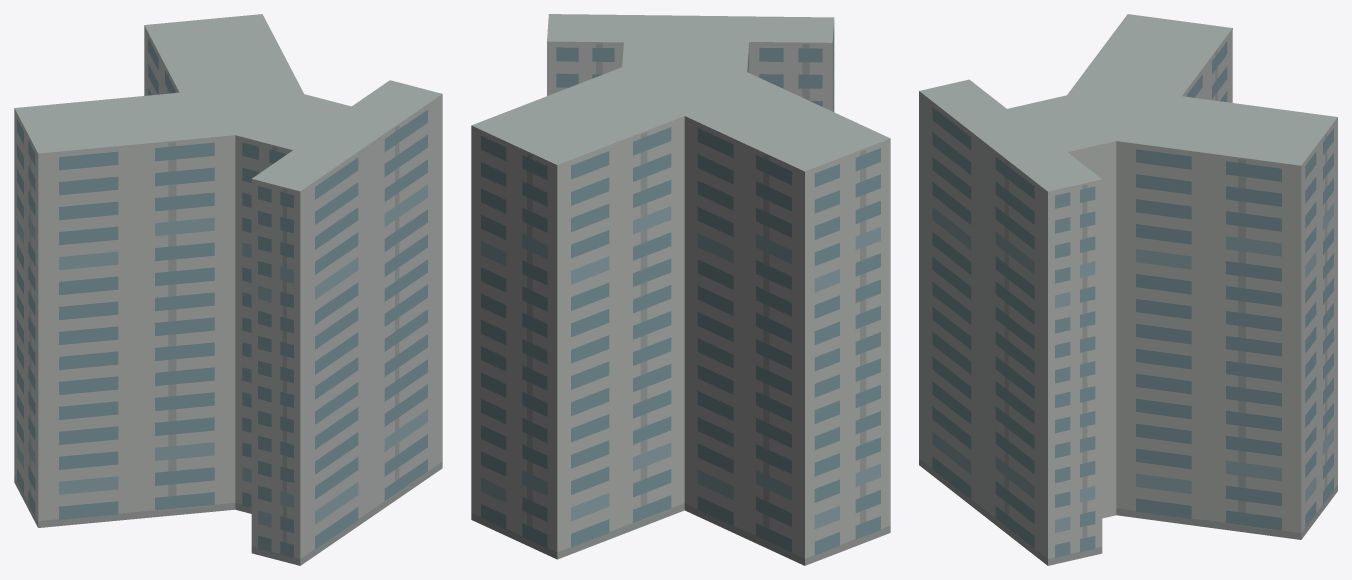
The model's file is residential-666953f0-fdf3-4303-b6fb-979c0f1234bf.glb.
3 views of the same model, side by side, from view 1: azimuth 30°, elevation 25°; view 2: azimuth 150°, elevation 25°; view 3: azimuth 270°, elevation 25° (orthographic). The views are drawn at different scales.
Visible parts, largest first — view 1: residential-666953f0-fdf3-4303-b6fb-979c0f1234bf.tmp; view 2: residential-666953f0-fdf3-4303-b6fb-979c0f1234bf.tmp; view 3: residential-666953f0-fdf3-4303-b6fb-979c0f1234bf.tmp.
Boxes of the visible parts, x1=… form: residential-666953f0-fdf3-4303-b6fb-979c0f1234bf.tmp: x1=14, y1=14, x2=442, y2=565; residential-666953f0-fdf3-4303-b6fb-979c0f1234bf.tmp: x1=471, y1=14, x2=890, y2=565; residential-666953f0-fdf3-4303-b6fb-979c0f1234bf.tmp: x1=919, y1=14, x2=1337, y2=565.
Size of the model in its own units: 61.11 by 60 by 60.85.
